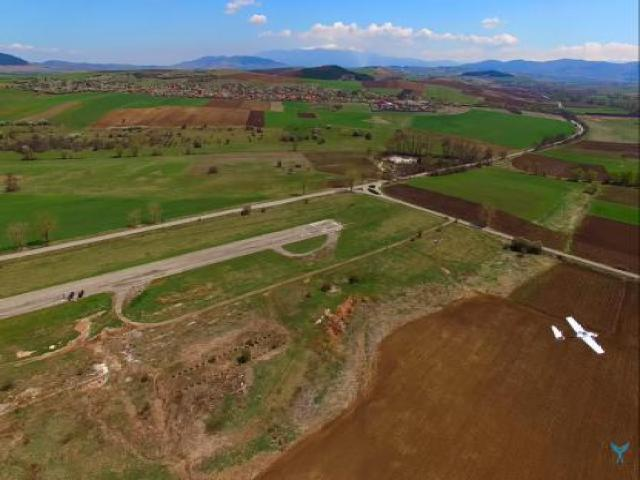uav: (546, 306, 608, 360)
